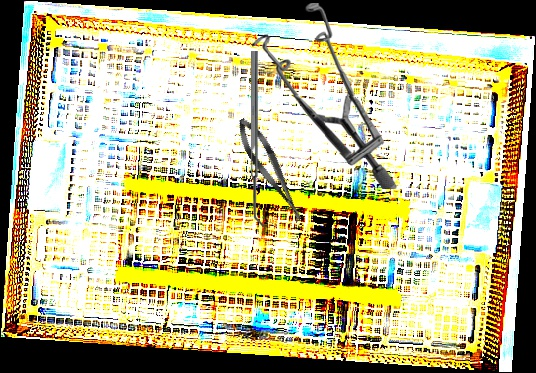Micro Scissor: (230, 113, 311, 227)
Spatula Surgical: (251, 51, 265, 227)
Speculum: (249, 2, 401, 189)
